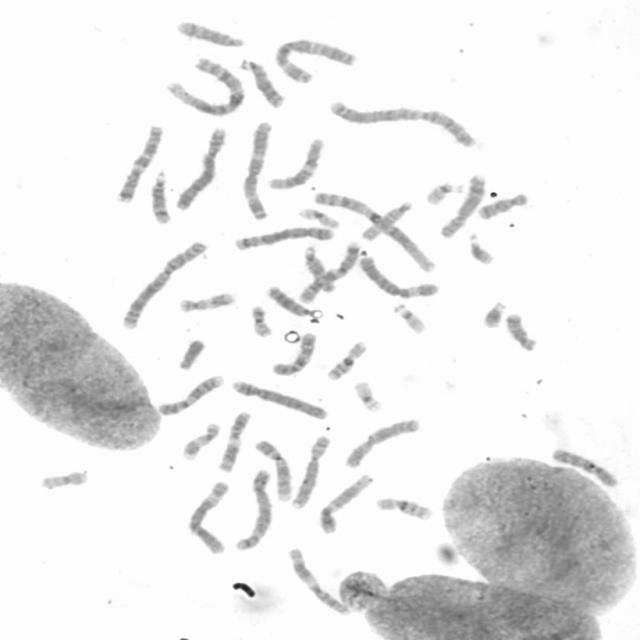A1: (309, 187, 439, 274), (162, 54, 248, 118)
A2: (116, 236, 209, 332), (325, 96, 480, 149)
A3: (272, 35, 359, 85), (239, 117, 275, 221)
B4: (170, 123, 229, 211), (228, 376, 331, 422)
B5: (231, 465, 276, 552), (230, 222, 337, 252)
C10: (548, 443, 621, 489), (268, 328, 319, 378)
C11: (284, 543, 354, 617), (214, 407, 253, 473)
C12: (314, 470, 376, 535), (265, 134, 327, 191)
C6: (354, 252, 441, 300), (181, 478, 233, 556)
C7: (110, 120, 166, 204), (294, 239, 361, 304)
C8: (287, 431, 333, 511), (435, 170, 488, 239)
C9: (153, 371, 226, 417), (251, 435, 295, 503)
D13: (236, 55, 286, 109), (263, 282, 314, 318)
D14: (172, 16, 248, 49), (147, 166, 173, 225)
D15: (358, 196, 416, 242), (300, 242, 340, 294)
E16: (322, 337, 370, 382), (372, 493, 436, 522)
E17: (178, 419, 222, 462), (174, 288, 238, 314)
E18: (474, 189, 530, 221), (502, 309, 539, 352)
F19: (350, 377, 386, 414), (295, 204, 341, 229)
F20: (36, 466, 90, 491), (248, 301, 276, 338)
G21: (464, 229, 497, 266), (478, 297, 509, 329)
G22: (389, 299, 429, 336), (421, 178, 466, 206)
X: (341, 414, 423, 469)
Y: (174, 334, 208, 372)
